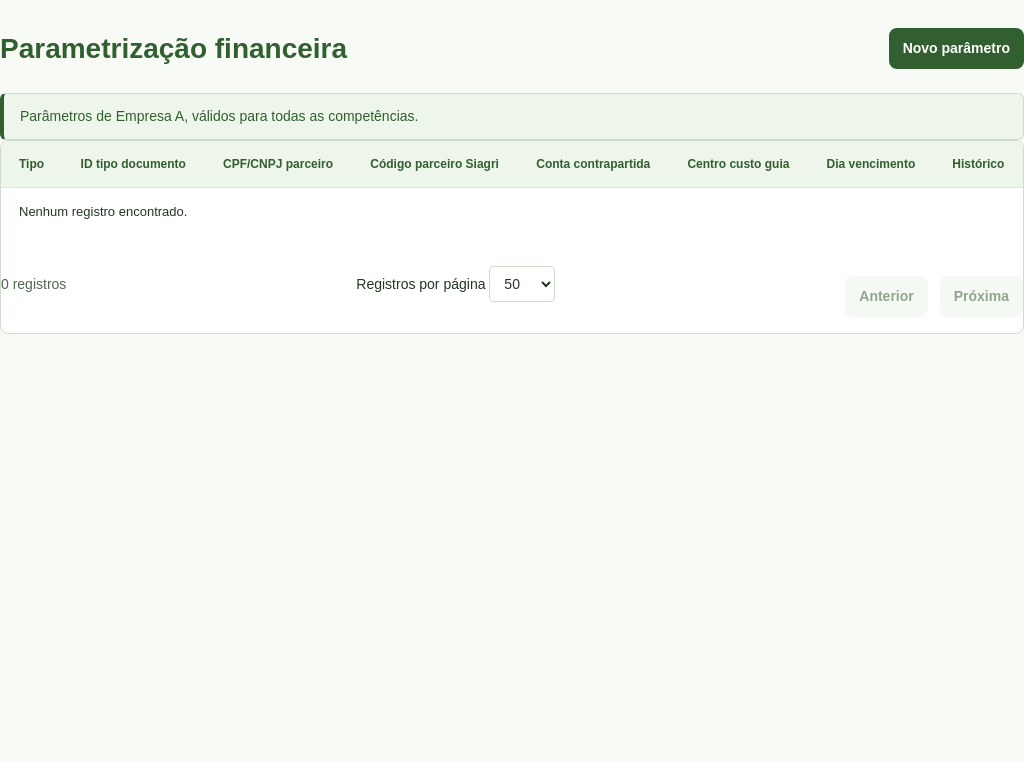
Test case: ignores list and save results after the company changes
Check: the text "Nenhum registro encontrado." is shown, box [1,188,1023,236]
What coordinates should you click on to do the following:
click the button "Novo parâmetro"
I would click on:
 (956, 48)
Its box is [889,28,1023,69].
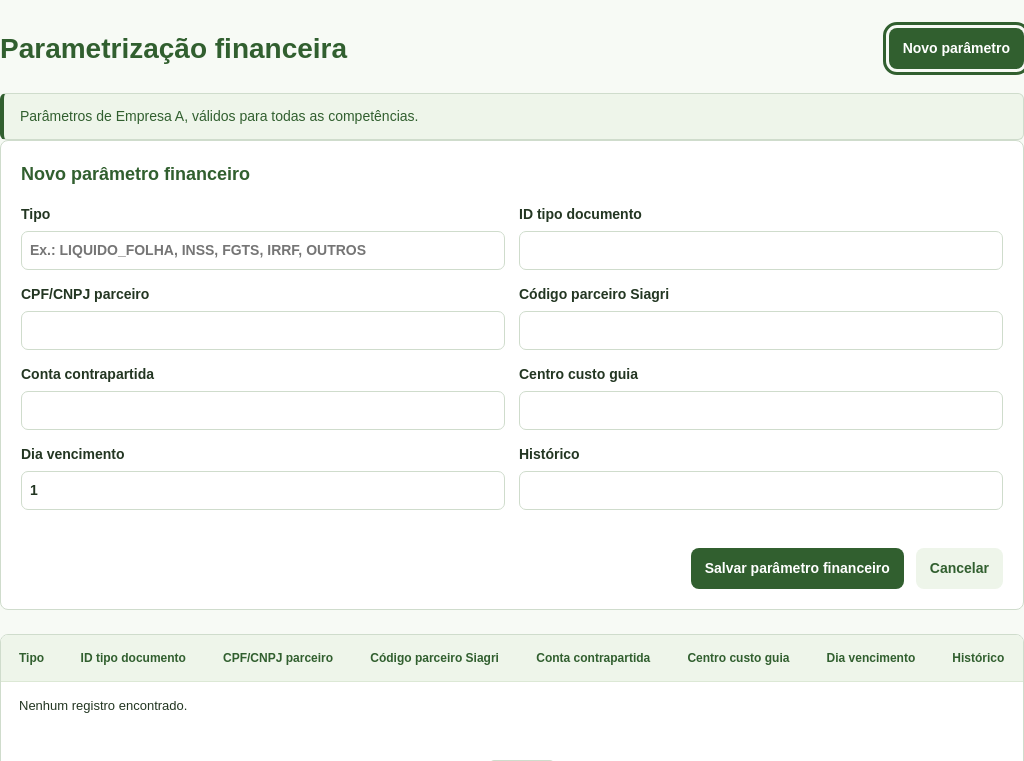
What coordinates should you click on to do the following:
click the button "Salvar parâmetro financeiro"
I would click on:
 (797, 568)
Its box is [691,548,904,589].
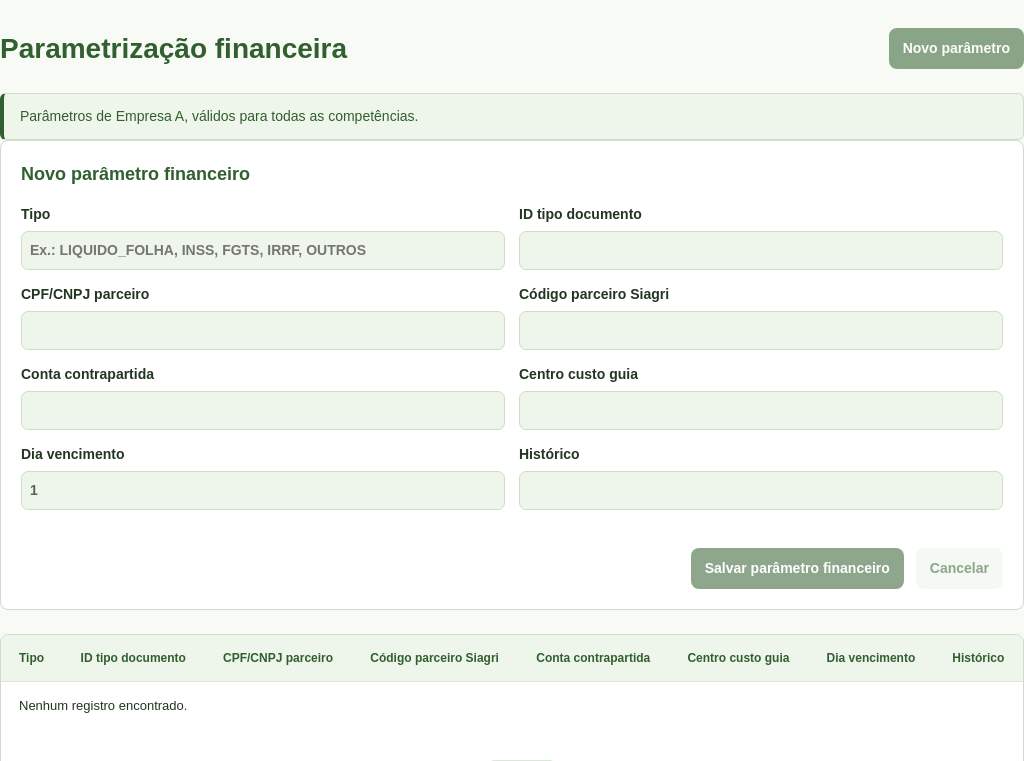
Check: the button "Salvar parâmetro financeiro" is disabled, box [691,548,904,589]
